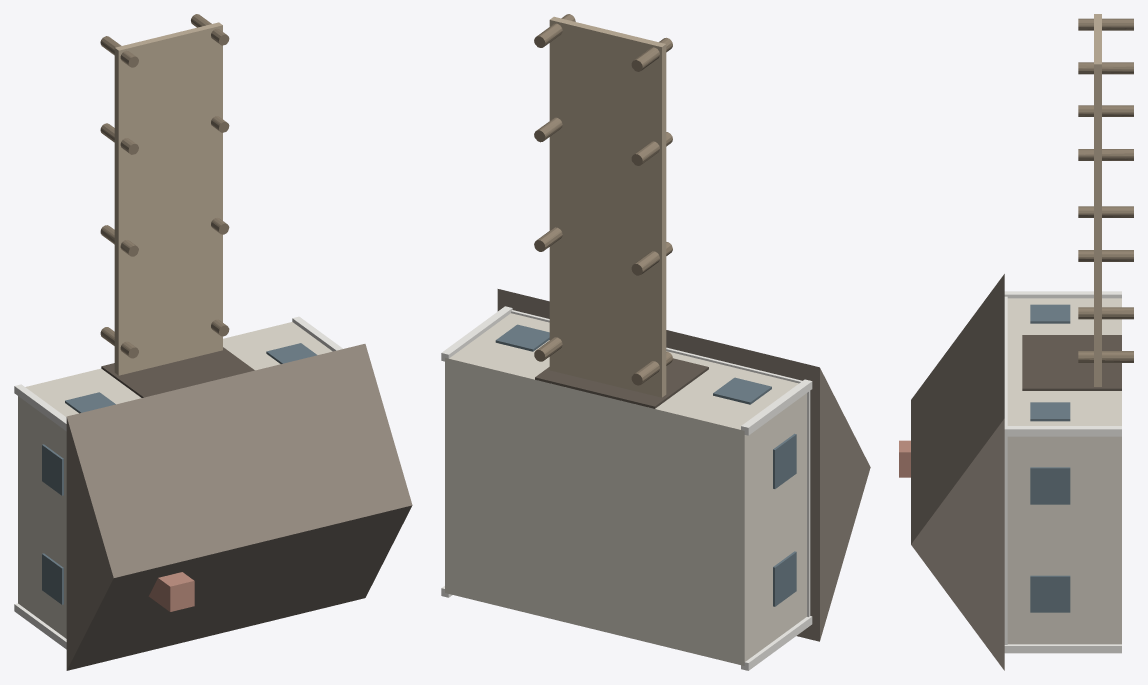
The model's file is r-126-cape-cod-shingled-boathouse.glb.
3 renders of one model, left to right at view 1: azimuth 30°, elevation 25°; view 2: azimuth 150°, elevation 25°; view 3: azimuth 270°, elevation 25°, orthographic. The views are drawn at different scales.
Visible parts, largest first — view 1: roof, dock-deck, walls, door, windows, dock-piles, trim, chimney; view 2: walls, dock-deck, roof, trim, windows, dock-piles, door; view 3: walls, roof, door, windows, dock-piles, trim, dock-deck, chimney.
Boxes of the visible parts, box(x1,y1,x2,y2) form: roof: box(66, 344, 412, 670); dock-deck: box(114, 22, 222, 375); walls: box(18, 322, 332, 638); door: box(101, 347, 254, 397); windows: box(42, 343, 317, 604); dock-piles: box(100, 14, 229, 358); trim: box(14, 316, 342, 649); chimney: box(148, 572, 194, 611); walls: box(445, 313, 806, 665); dock-deck: box(549, 16, 666, 397); roof: box(497, 289, 870, 641); trim: box(441, 306, 812, 670); windows: box(495, 324, 796, 606); dock-piles: box(534, 14, 672, 385); door: box(535, 358, 708, 408); walls: box(1007, 298, 1121, 644); roof: box(911, 274, 1004, 670); door: box(1022, 335, 1121, 390); windows: box(1030, 304, 1070, 612); dock-piles: box(1078, 18, 1133, 362); trim: box(1004, 291, 1121, 653); dock-deck: box(1094, 14, 1101, 386); chimney: box(899, 440, 910, 477).
Size of the model in its own units: 8600 by 15500 by 5900.
